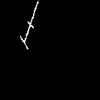double_crochet: (20, 2, 38, 48)
